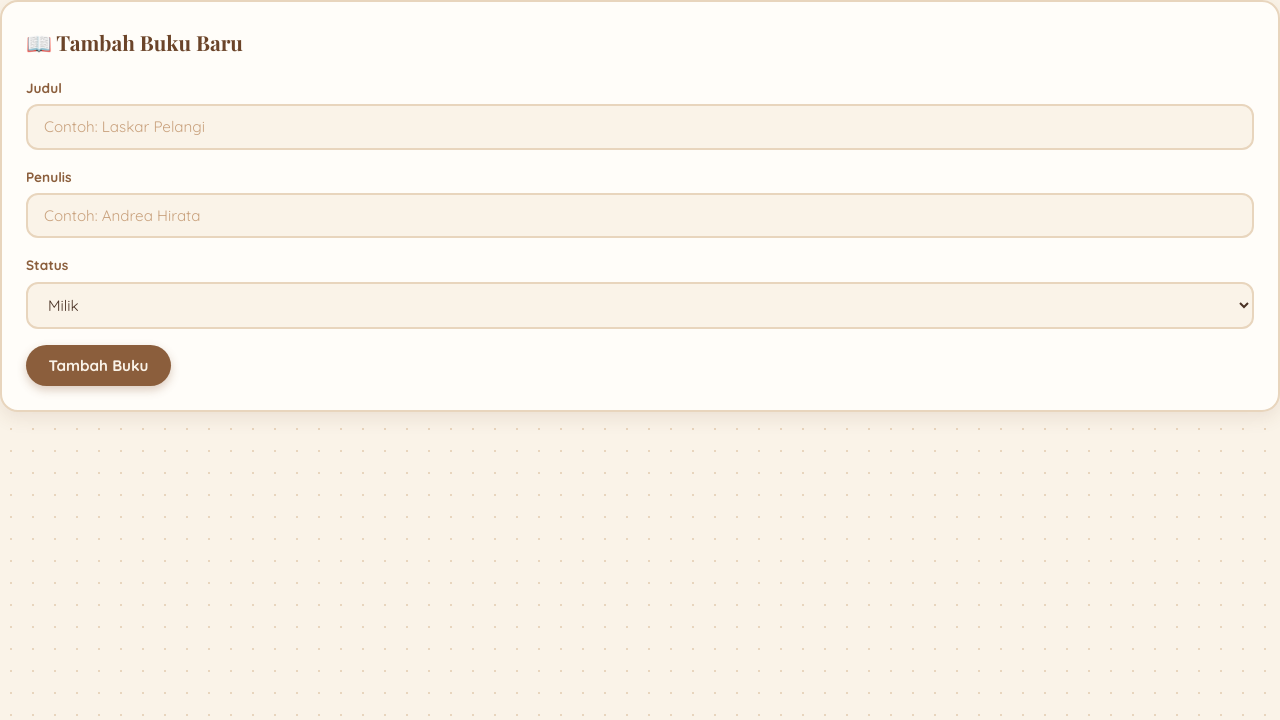
it: Komponen BookForm › menampilkan pesan error saat form kosong dikirim
Click the button "Tambah Buku" at (98, 366), box [26,345,171,386]
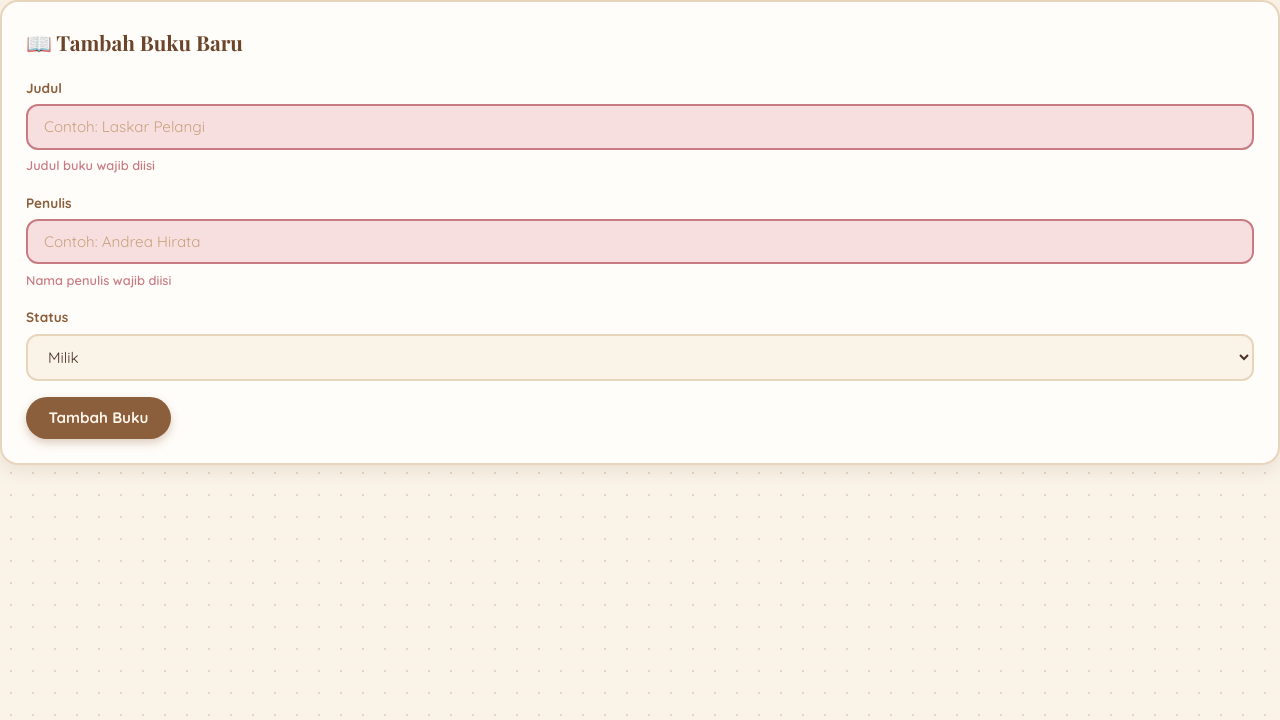
Expected: the text "Judul buku wajib diisi" is shown, [26,157,155,173]
Expected: the text "Nama penulis wajib diisi" is shown, [26,272,171,288]
